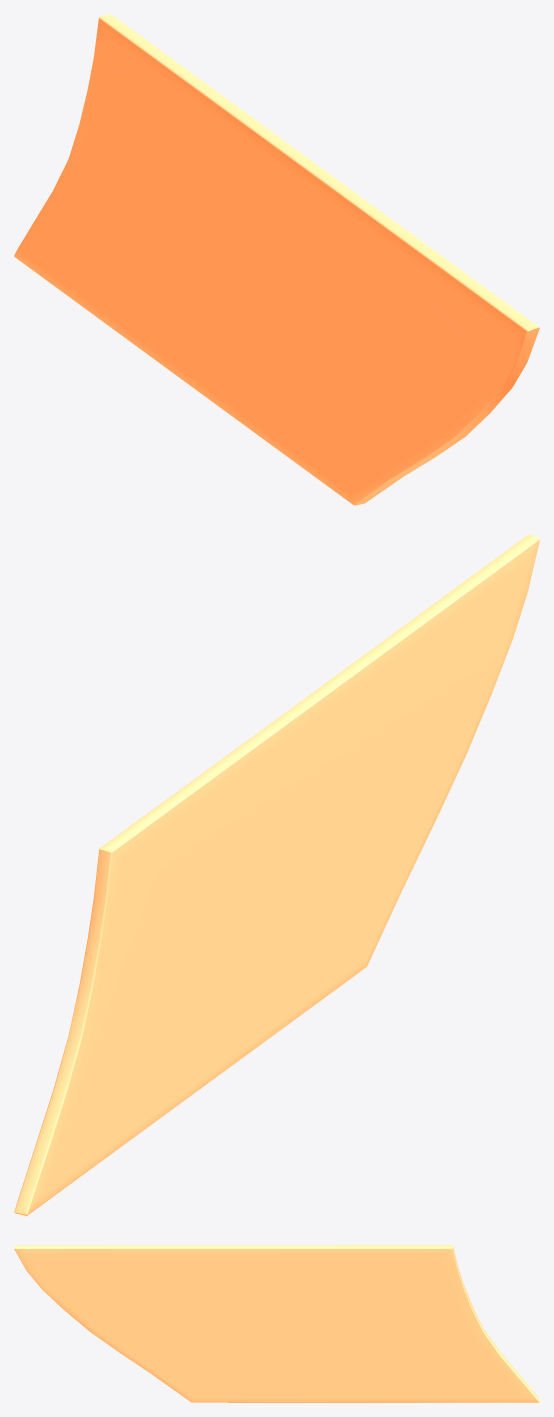
Rendered from SM_Wall_Hull.fbx.
3 views of the same model, one above another, from view 1: azimuth 30°, elevation 25°; view 2: azimuth 150°, elevation 25°; view 3: azimuth 270°, elevation 25° (orthographic). The views are drawn at different scales.
Visible parts, largest first — view 1: SM_Wall_Hull_LOD0; view 2: SM_Wall_Hull_LOD0; view 3: SM_Wall_Hull_LOD0.
Boxes of the visible parts, <box> form: SM_Wall_Hull_LOD0: <box>14,14,539,505</box>; SM_Wall_Hull_LOD0: <box>14,534,539,1216</box>; SM_Wall_Hull_LOD0: <box>14,1245,539,1402</box>.
Size of the model in its own units: 20.03 by 1226 by 400.
